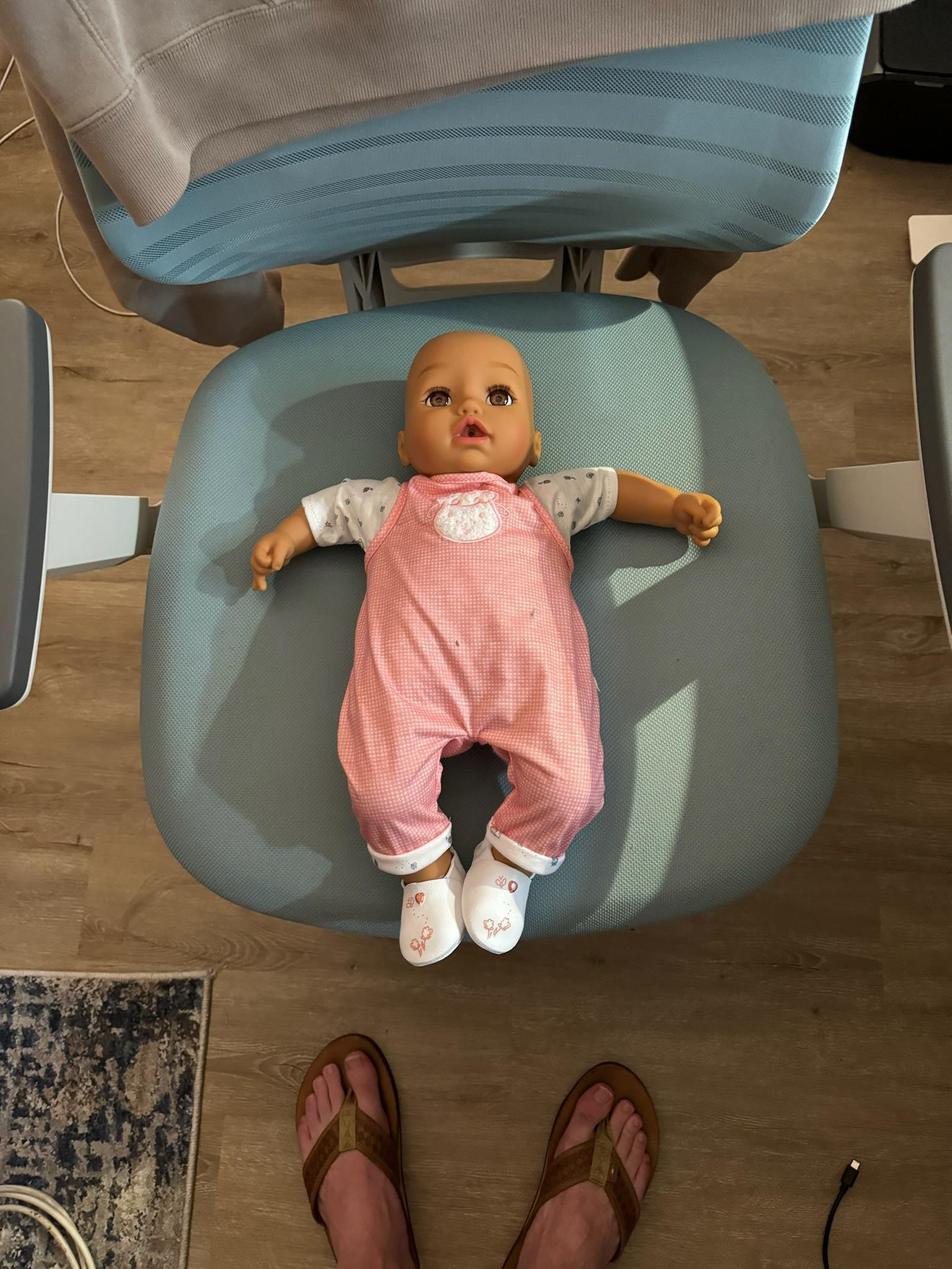baby: (238, 322, 725, 979)
